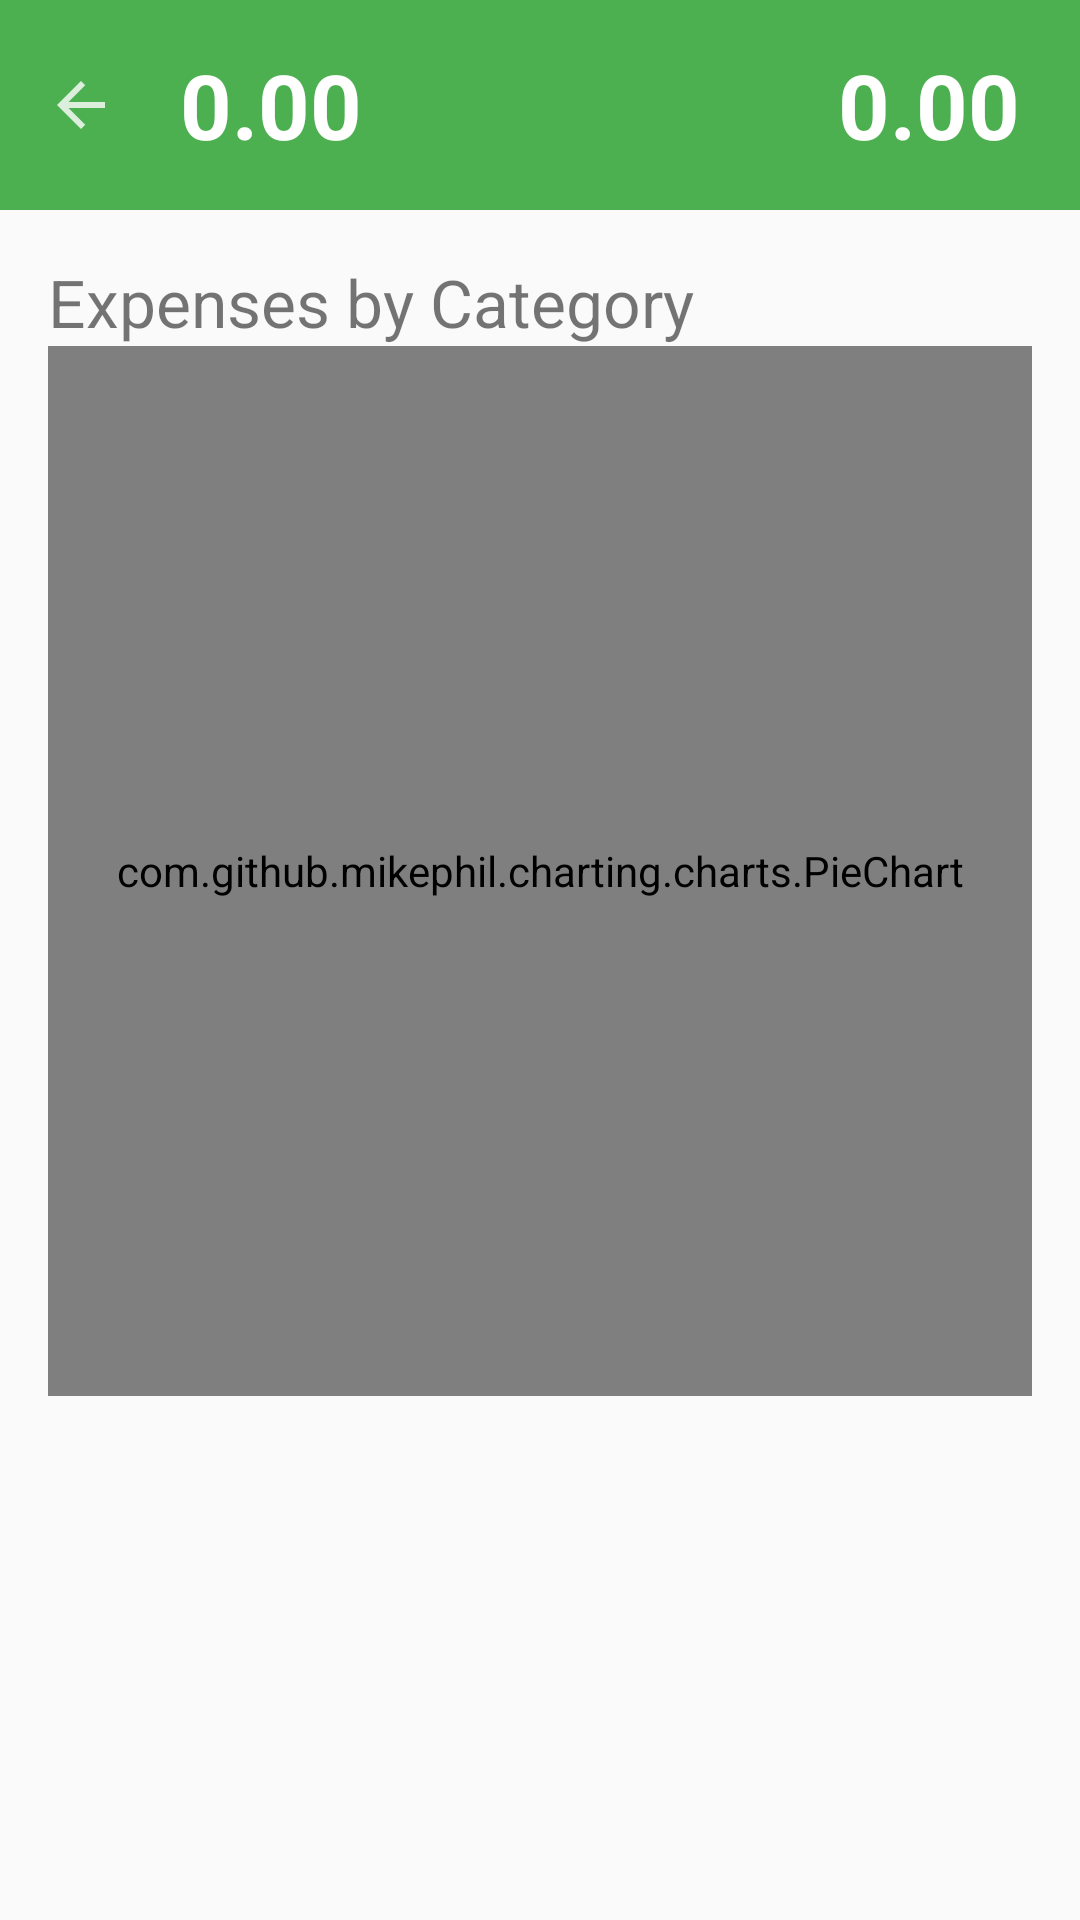

Icons on this 1080*1920 Android screen, each with its box as (x1, y1, x2, y2):
arrow back: (57, 81, 105, 129)
